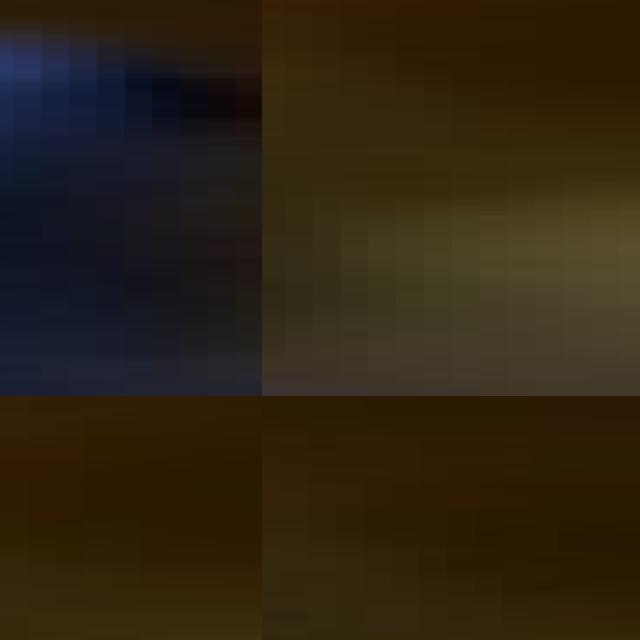fish: (0, 5, 262, 396)
